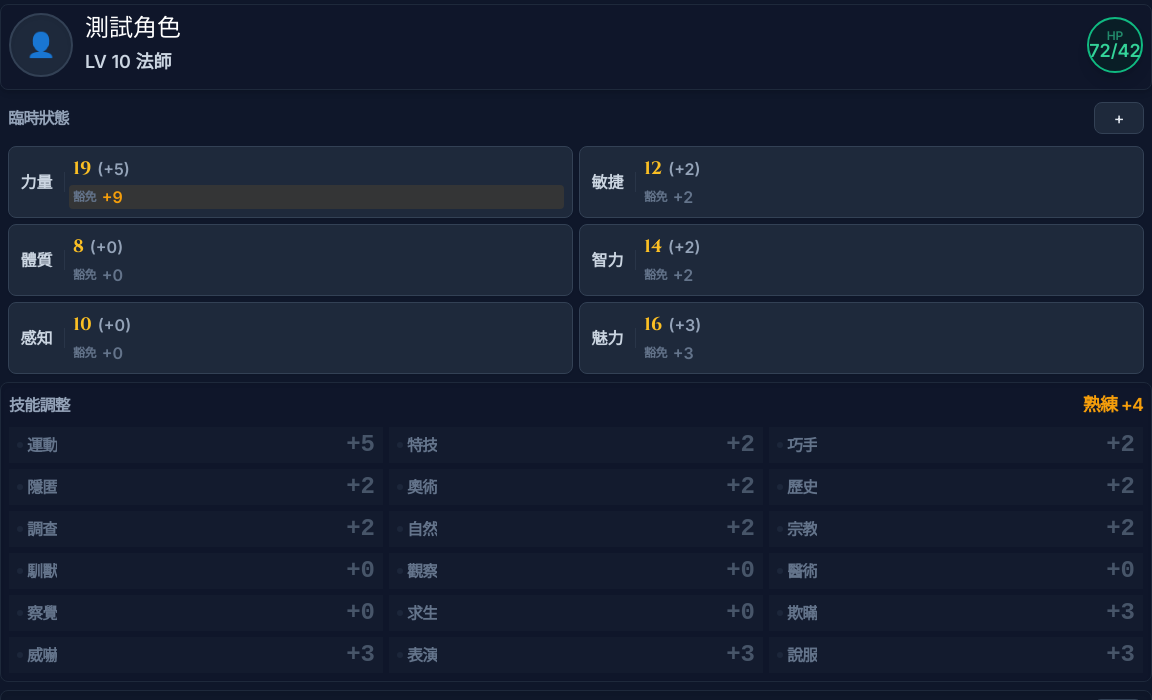
屬性詳細彈窗 - 能力值與調整值不可混算 › 最終屬性值應與角色頁一致（不可把只加調整值的來源算進去）
Click the text "力量" at coordinates (36, 182), box [20,172,52,192]
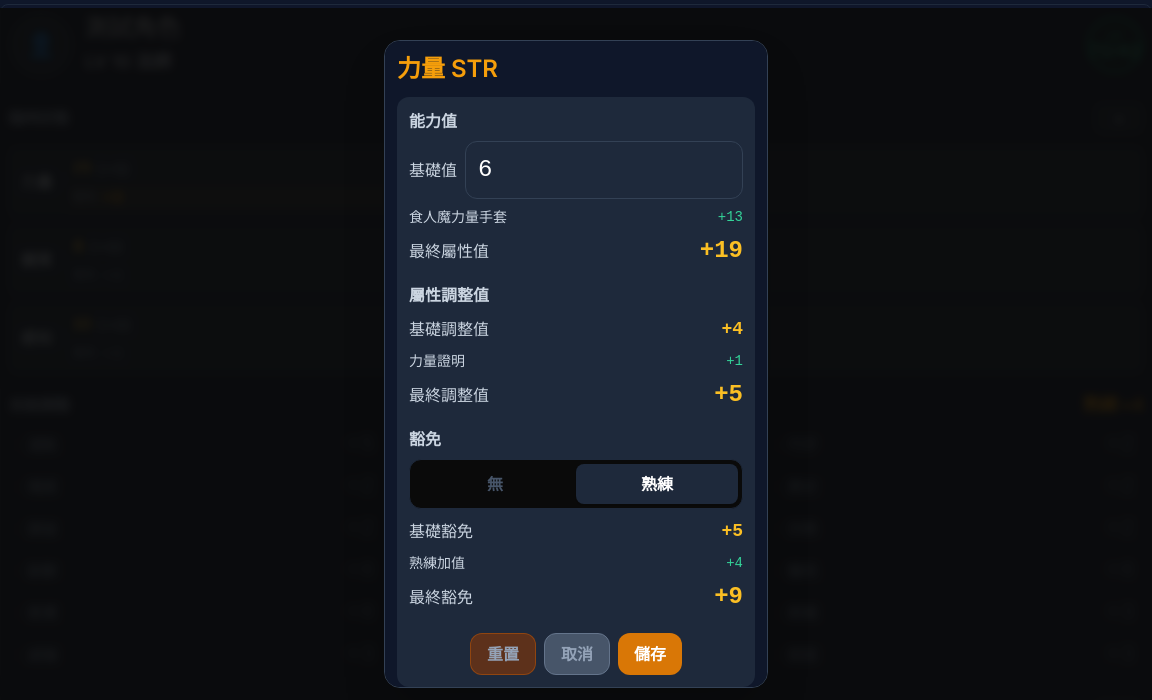
Result: the text "最終屬性值" is shown at [409,239,489,263]
Result: the text "最終屬性值" shows "19" at [714,237,743,264]
